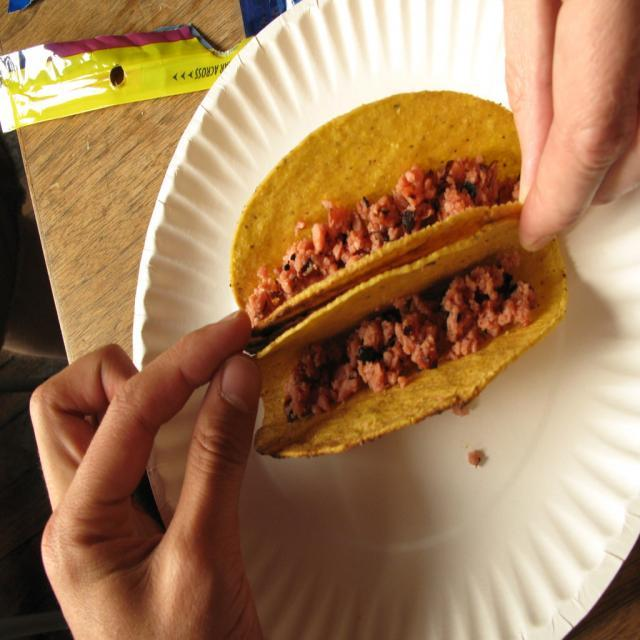Hot dog: (225, 96, 541, 468)
